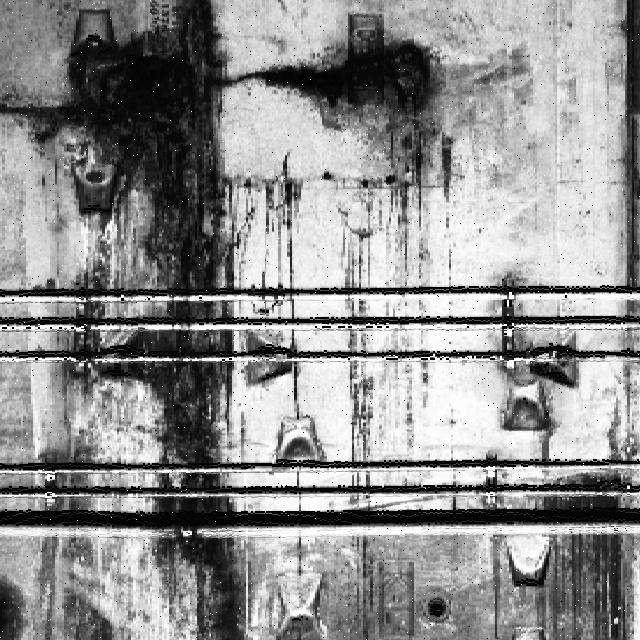leakage: (74, 1, 260, 640), (340, 195, 433, 480), (261, 39, 452, 177), (520, 477, 639, 639), (347, 533, 382, 638)
